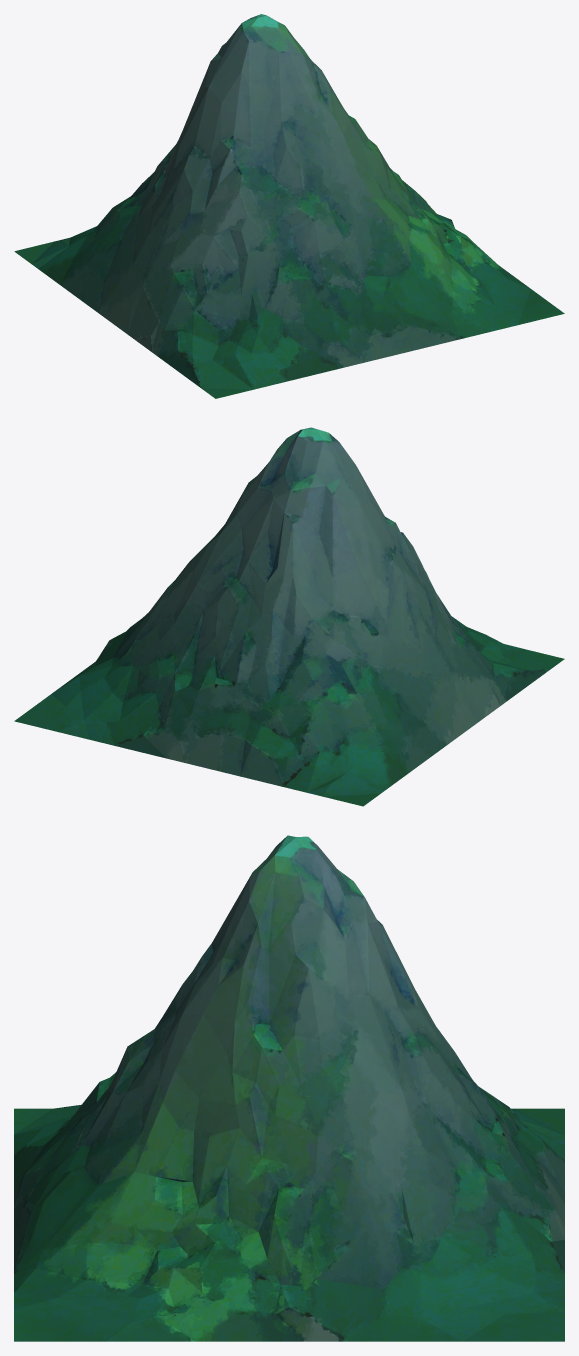
Rendered from mountain_tall.fbx.
3 views of the same model, one above another, from view 1: azimuth 30°, elevation 25°; view 2: azimuth 150°, elevation 25°; view 3: azimuth 270°, elevation 25° (orthographic). The views are drawn at different scales.
Parts seen in each view (by area): view 1: mountain_tall; view 2: mountain_tall; view 3: mountain_tall.
Part boxes in pixels (<box>): mountain_tall: <box>14,14,564,398</box>; mountain_tall: <box>14,427,564,806</box>; mountain_tall: <box>14,835,564,1341</box>.
Bounding box in the file's own units: 10 × 7.38 × 10.
